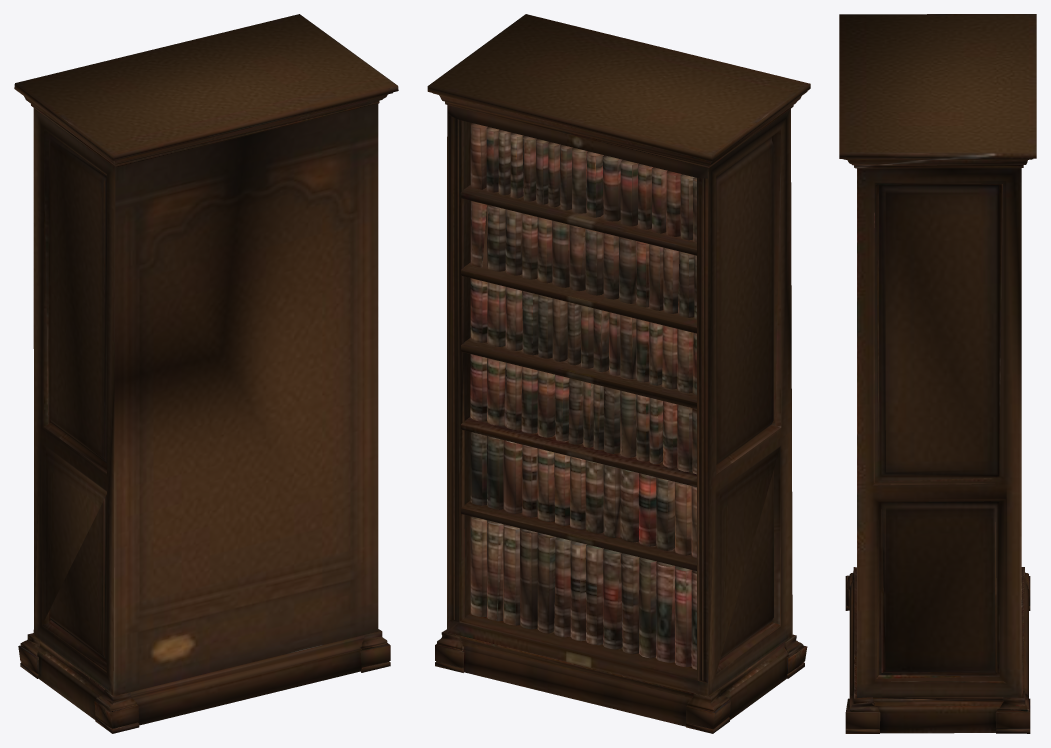
The model's file is office-law-bookcase.glb.
3 views of the same model, side by side, from view 1: azimuth 30°, elevation 25°; view 2: azimuth 150°, elevation 25°; view 3: azimuth 270°, elevation 25° (orthographic).
Parts seen in each view (by area): view 1: law-bookcase; view 2: law-bookcase; view 3: law-bookcase.
Part boxes in pixels (bbox=[...]): law-bookcase: bbox=[14, 14, 398, 733]; law-bookcase: bbox=[427, 14, 810, 733]; law-bookcase: bbox=[839, 14, 1036, 733].
Bounding box in the file's own units: 1.13 × 2.2 × 0.6749.
Materials: 1 (1 with a texture image).
